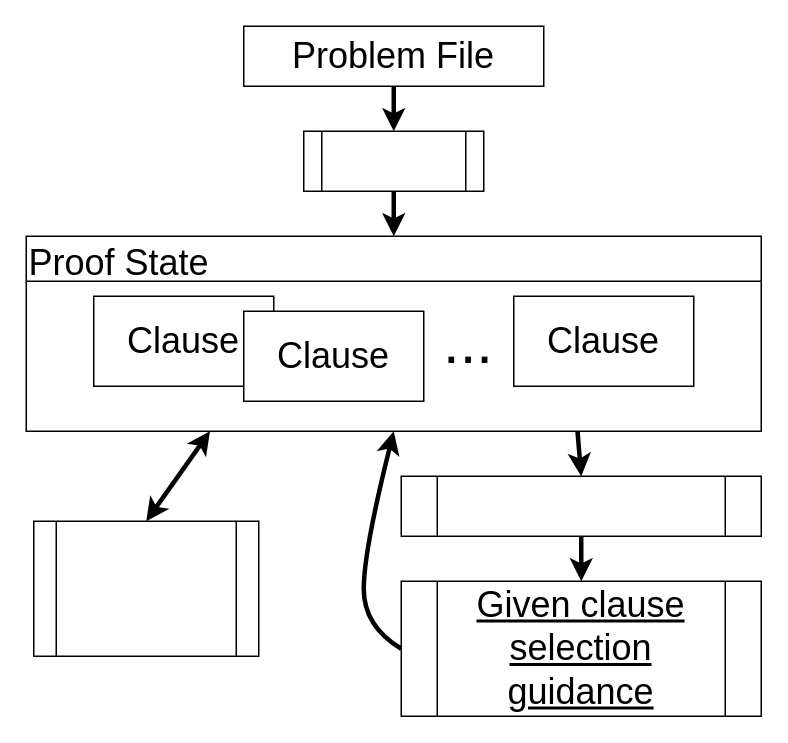
Some shapes in this 788 by 743 pixel diagram are drawn without their labels. Each missing label, with the box of its shape:
Clause encoder: (400, 475, 761, 536)
Parser: (302, 130, 484, 191)
Proof Calculus: (32, 520, 259, 656)
